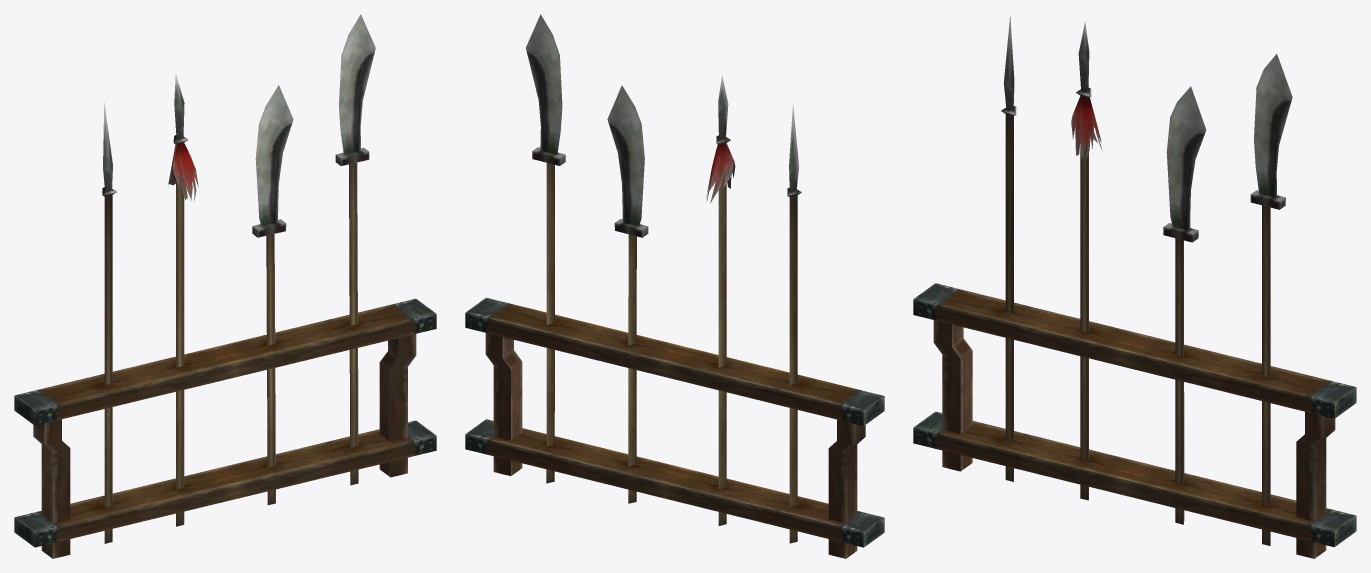
File: h5_bingqi_a.FBX
The picture shows the model from 3 angles, left to right: view 1: azimuth 30°, elevation 25°; view 2: azimuth 150°, elevation 25°; view 3: azimuth 330°, elevation 25°; orthographic projection. The views are drawn at different scales.
Visible parts, largest first — view 1: h5_bingqi_a; view 2: h5_bingqi_a; view 3: h5_bingqi_a.
Part boxes in pixels (bbox=[...]): h5_bingqi_a: bbox=[14, 14, 436, 558]; h5_bingqi_a: bbox=[465, 14, 884, 558]; h5_bingqi_a: bbox=[913, 16, 1356, 558].
Bounding box in the file's own units: 4.08 × 4.54 × 0.4149.
1 material, 1 textured.
